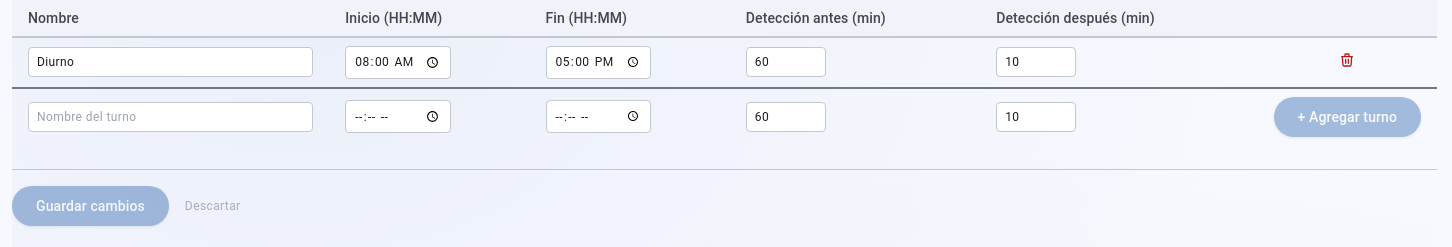
it: ShiftsTab discard › clicking Descartar reverts changes and clears dirty
Replace the text in the field named "Nombre del turno" with "Modificado": (171, 62) left=28, top=47, right=313, bottom=77
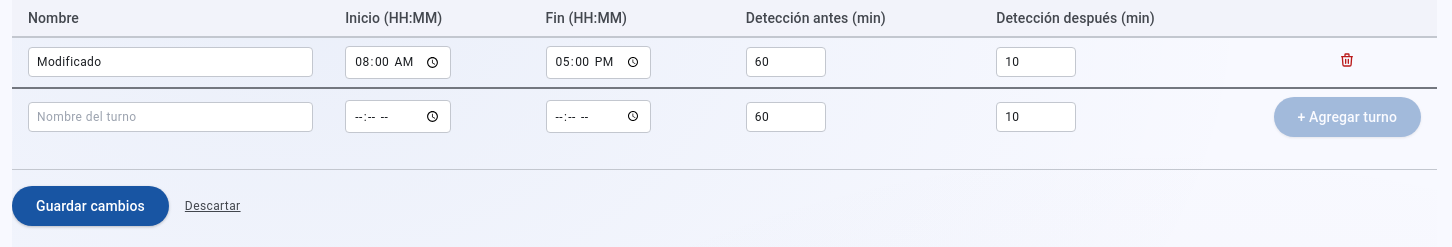
Click the button "Descartar": (213, 206) left=185, top=198, right=241, bottom=214
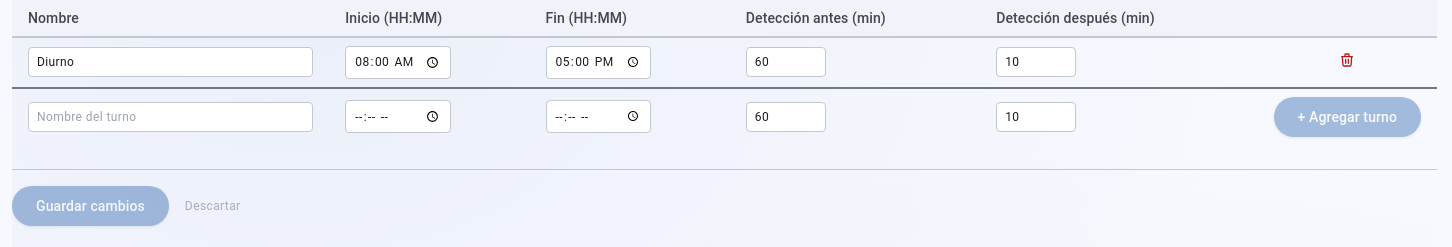
Check: the field showing "Diurno" is shown, box left=28, top=47, right=313, bottom=77
